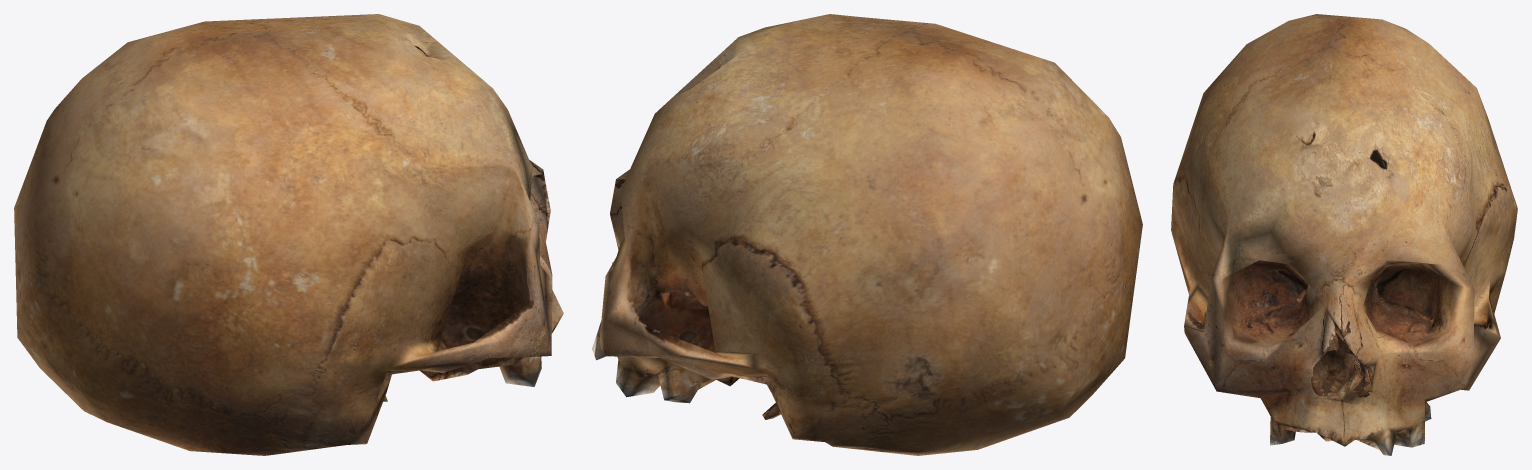
File: Skull_Showing.fbx
3 renders of one model, left to right at view 1: azimuth 30°, elevation 25°; view 2: azimuth 150°, elevation 25°; view 3: azimuth 270°, elevation 25°, orthographic. The views are drawn at different scales.
Visible parts, largest first — view 1: Skull_Showing_LOD0; view 2: Skull_Showing_LOD0; view 3: Skull_Showing_LOD0.
Boxes of the visible parts, x1,y1,x2,y2 form: Skull_Showing_LOD0: [14, 14, 563, 455]; Skull_Showing_LOD0: [592, 14, 1142, 455]; Skull_Showing_LOD0: [1171, 14, 1517, 455].
Size of what is drawn, in the model's own units: 47.08 by 33.6 by 34.09.
Materials: 1 (1 with a texture image).
